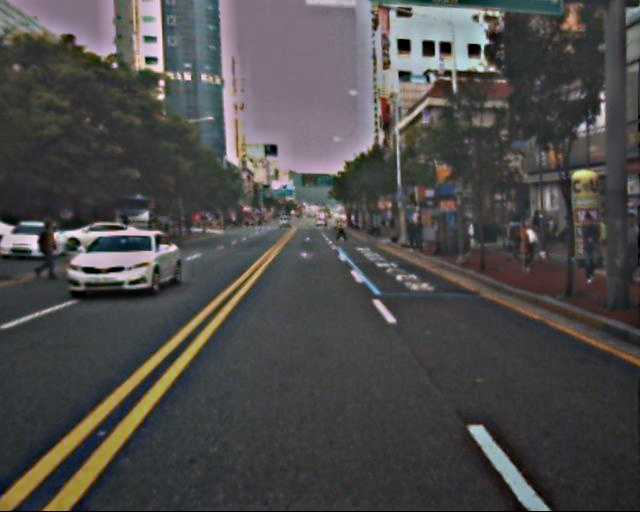person: (569, 212, 600, 288), (38, 218, 71, 280), (517, 223, 538, 275), (505, 213, 525, 261), (427, 214, 445, 258), (412, 220, 428, 258), (334, 215, 346, 244), (404, 223, 415, 250)
